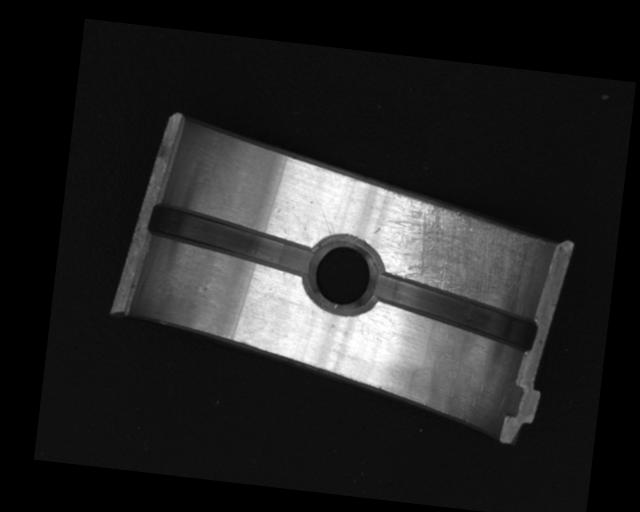gap: (369, 269, 544, 354), (142, 202, 312, 275)
hole: (304, 239, 386, 314)
scratch: (384, 196, 551, 316)
